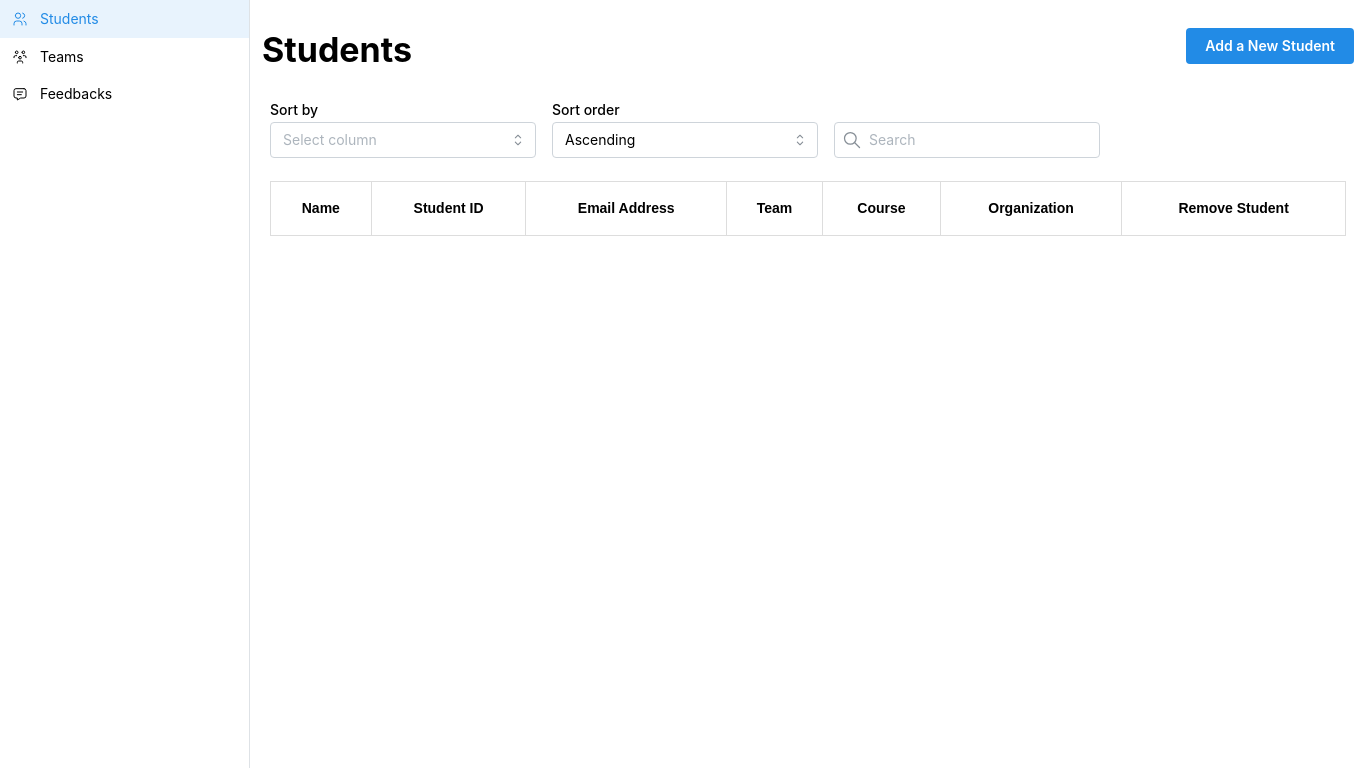
Test: InstructorDashboard › can choose from existing organization dropdown after clicking create a new team
The width and height of the screenshot is (1366, 768).
Click the icon with test id "Teams" at point(20, 56), box [12, 48, 28, 64]
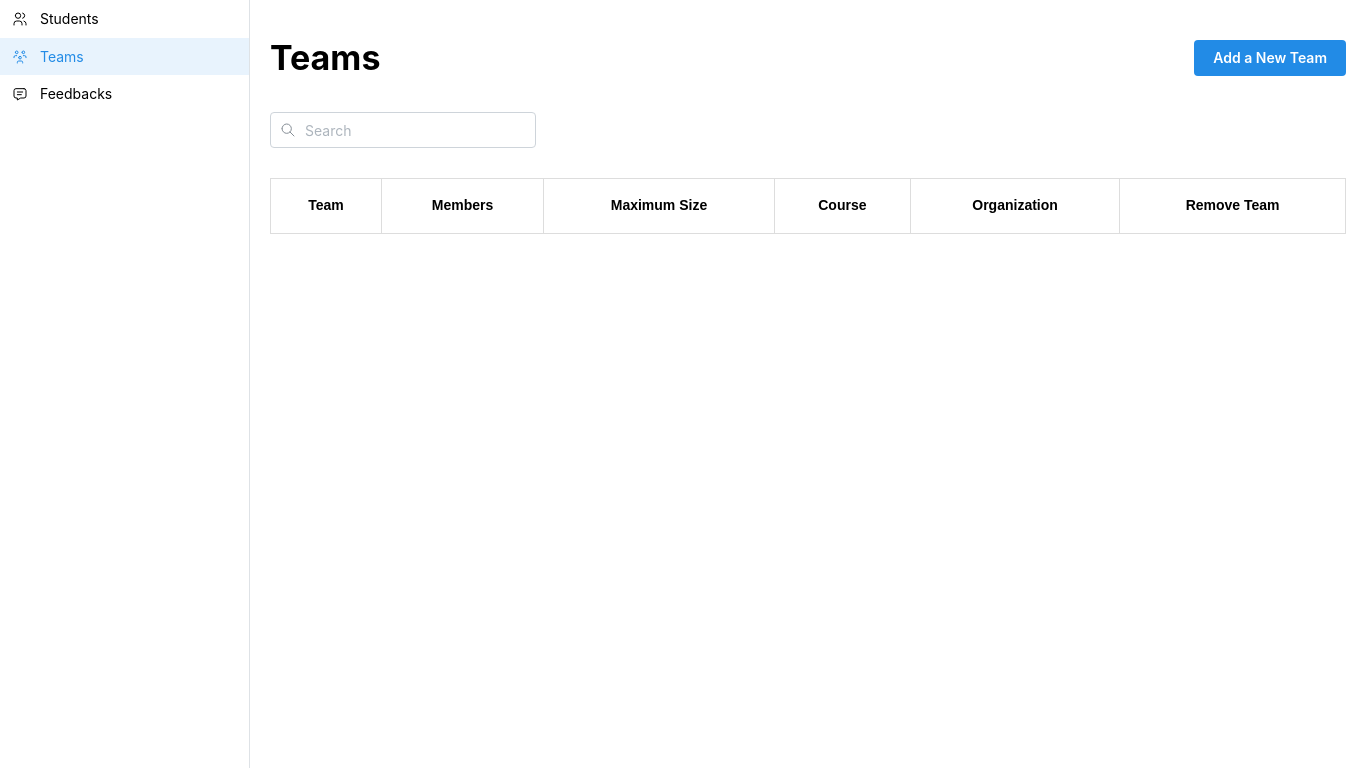
expect the heading "Teams" is shown: met, box [270, 36, 380, 80]
expect the button with test id "newteam" is shown: met
Click the button with test id "newteam" at point(1270, 58), box [1194, 40, 1346, 76]
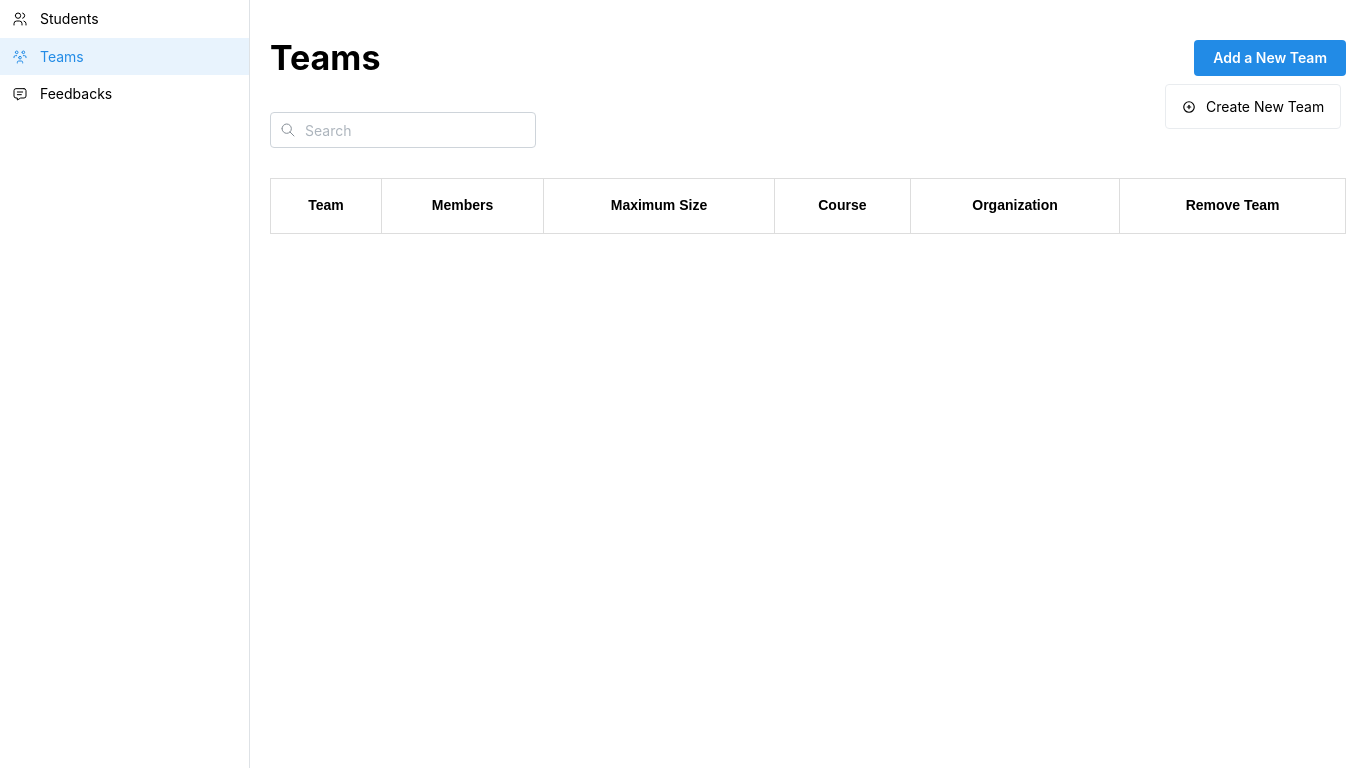
expect the text "Create New Team" is shown: met, box [1206, 96, 1324, 118]
Click the menu item "Create New Team" at point(1253, 107), box [1170, 89, 1336, 124]
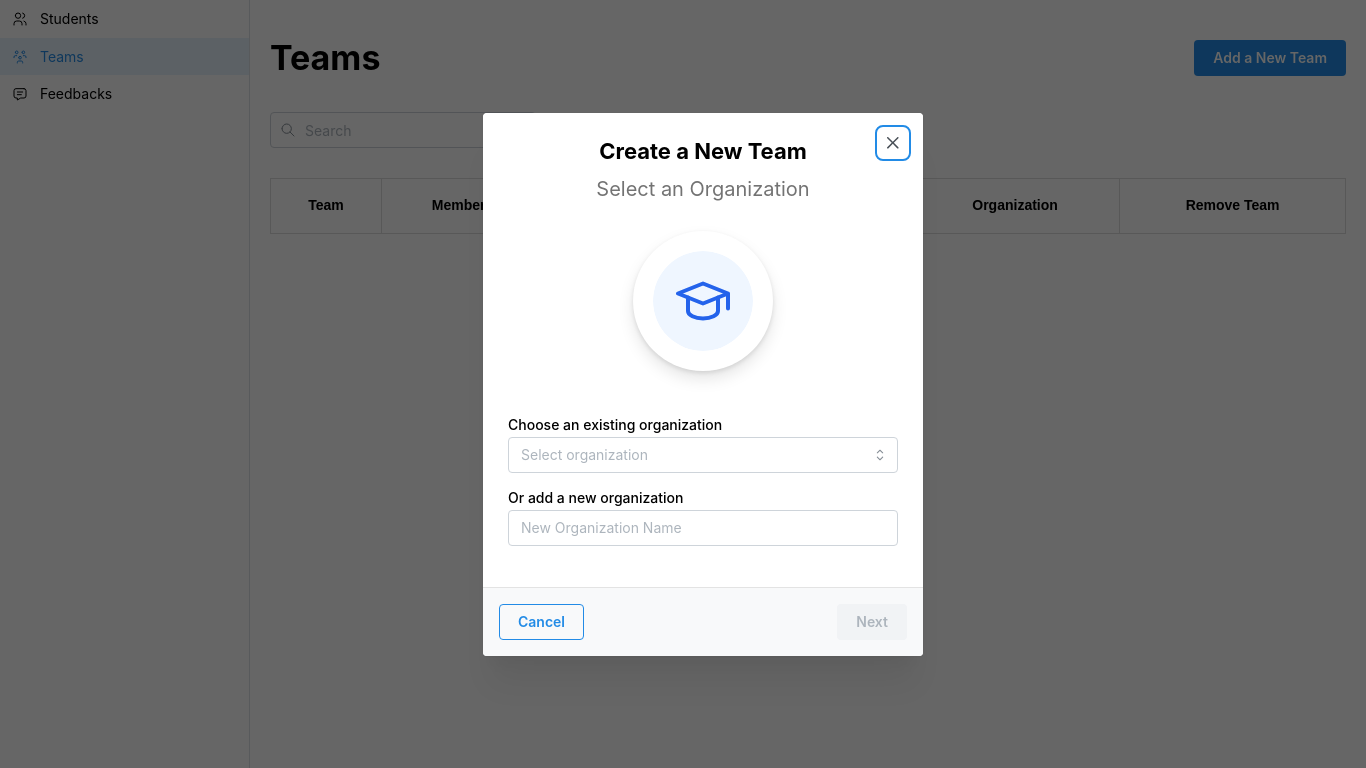
expect the text "Select an Organization" is shown: met, box [596, 173, 810, 206]
expect the field with placeholder "Select organization" is shown: met
Click the field with placeholder "Select organization" at point(703, 454), box [508, 436, 898, 472]
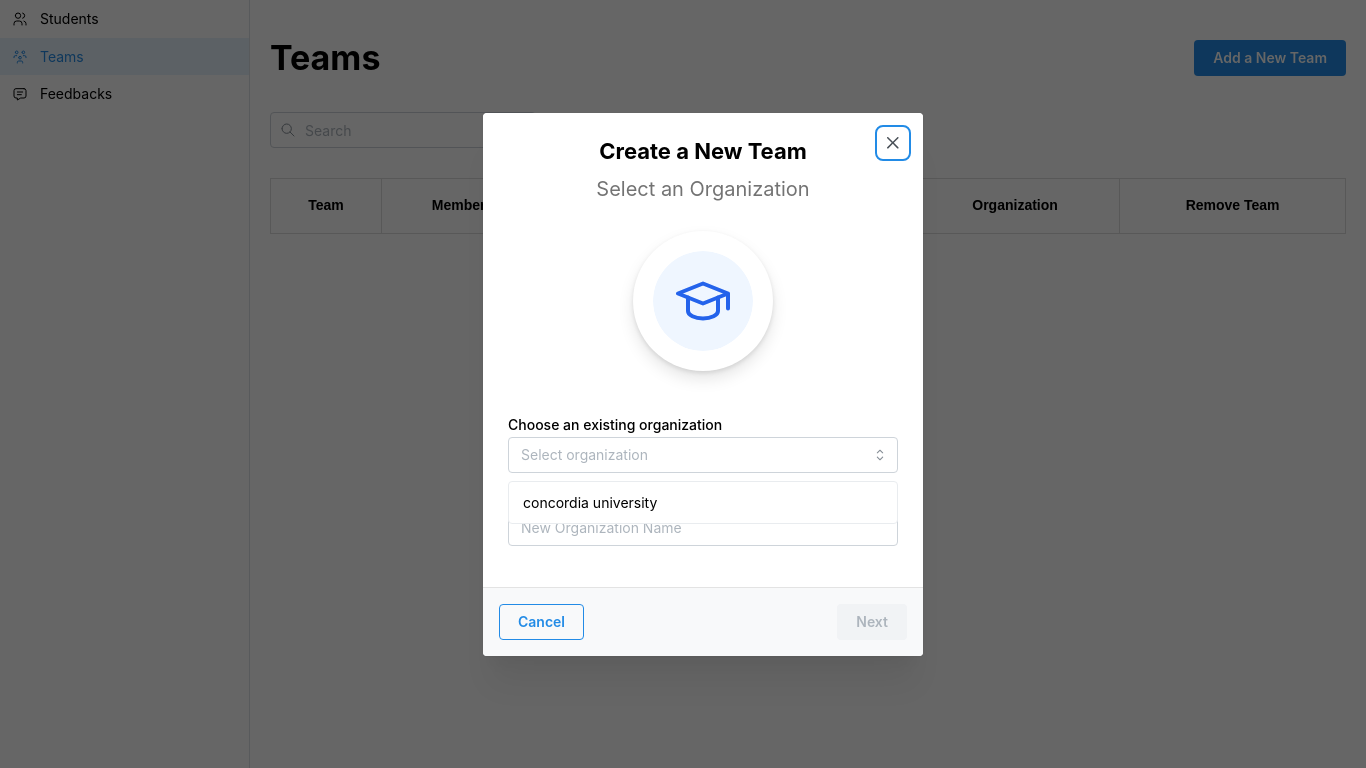
expect the text "concordia university" is shown: met, box [523, 492, 657, 513]
